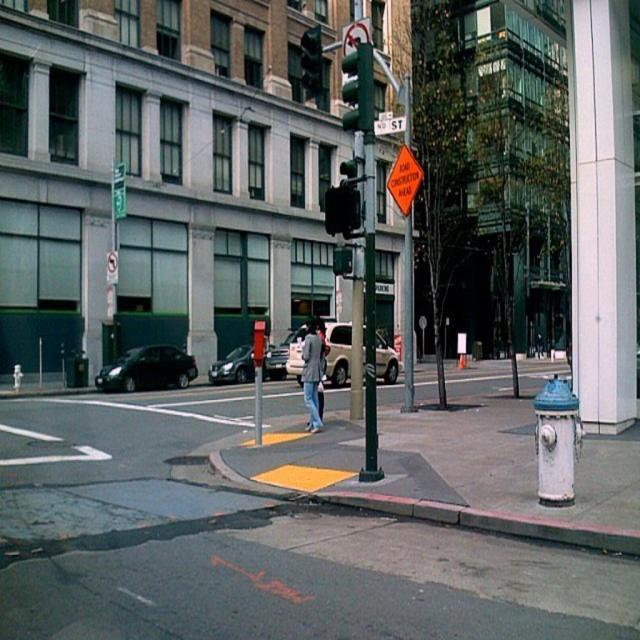off traffic light: (341, 37, 389, 137), (298, 26, 322, 97)
